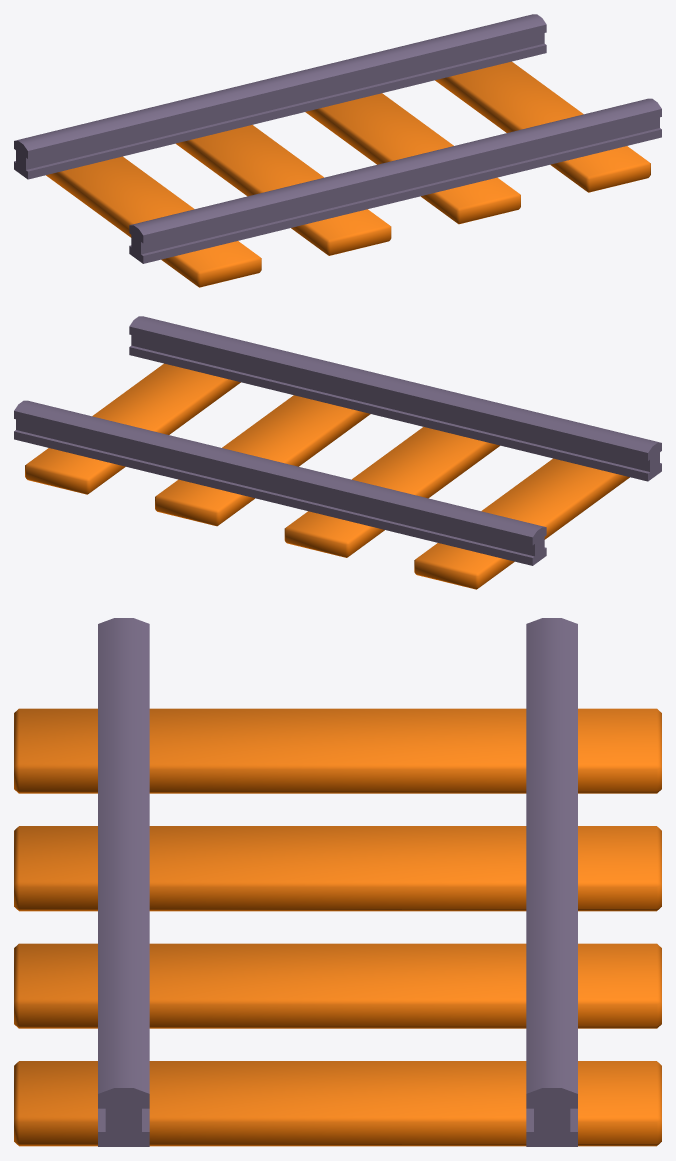
The model's file is Prop_Railway_Track_01.fbx.
3 renders of one model, top to bottom at view 1: azimuth 30°, elevation 25°; view 2: azimuth 150°, elevation 25°; view 3: azimuth 270°, elevation 25°, orthographic. The views are drawn at different scales.
Parts seen in each view (by area): view 1: Prop_Railway_Track_01; view 2: Prop_Railway_Track_01; view 3: Prop_Railway_Track_01.
Boxes of the visible parts, <box> form: Prop_Railway_Track_01: <box>14,14,661,287</box>; Prop_Railway_Track_01: <box>14,316,661,589</box>; Prop_Railway_Track_01: <box>14,618,661,1146</box>.
Size of the model in its own units: 200 by 17.83 by 117.
